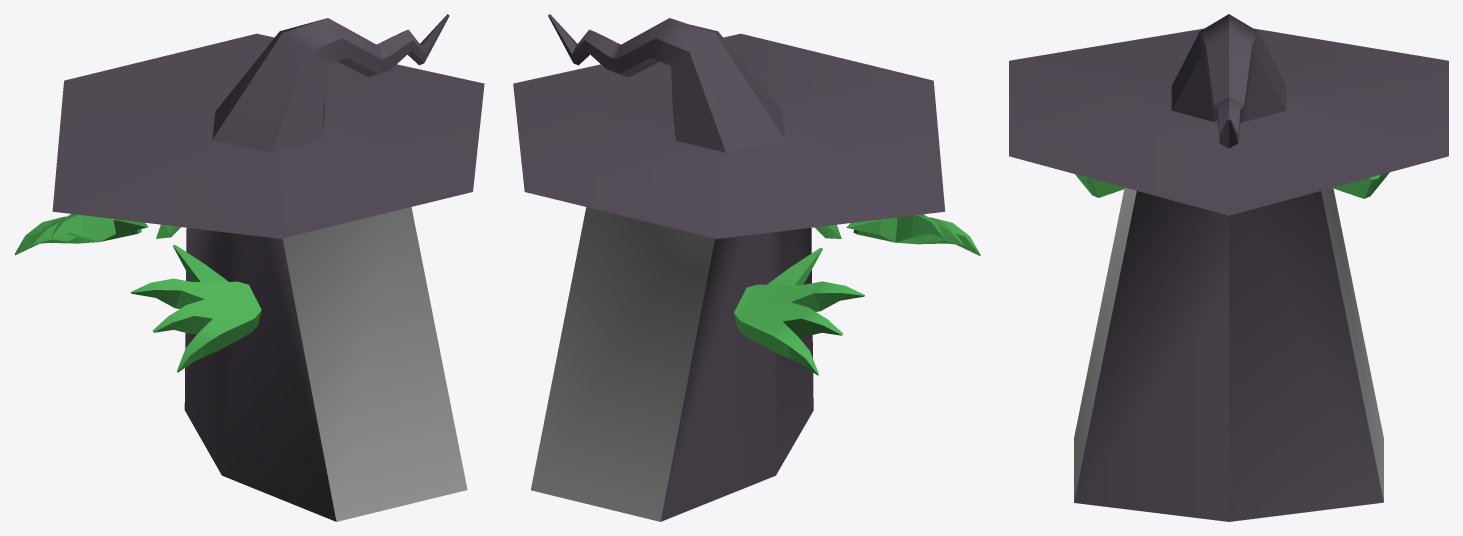
The model's file is Witch_1sternder.fbx.
3 views of the same model, side by side, from view 1: azimuth 30°, elevation 25°; view 2: azimuth 150°, elevation 25°; view 3: azimuth 270°, elevation 25° (orthographic).
Parts seen in each view (by area): view 1: pCube2; view 2: pCube2; view 3: pCube2.
Boxes of the visible parts, left/top/right/bottom form: pCube2: left=14, top=14, right=484, bottom=521; pCube2: left=513, top=14, right=980, bottom=521; pCube2: left=1009, top=14, right=1448, bottom=521.
Bounding box in the file's own units: 25.78 × 24.62 × 22.35.
